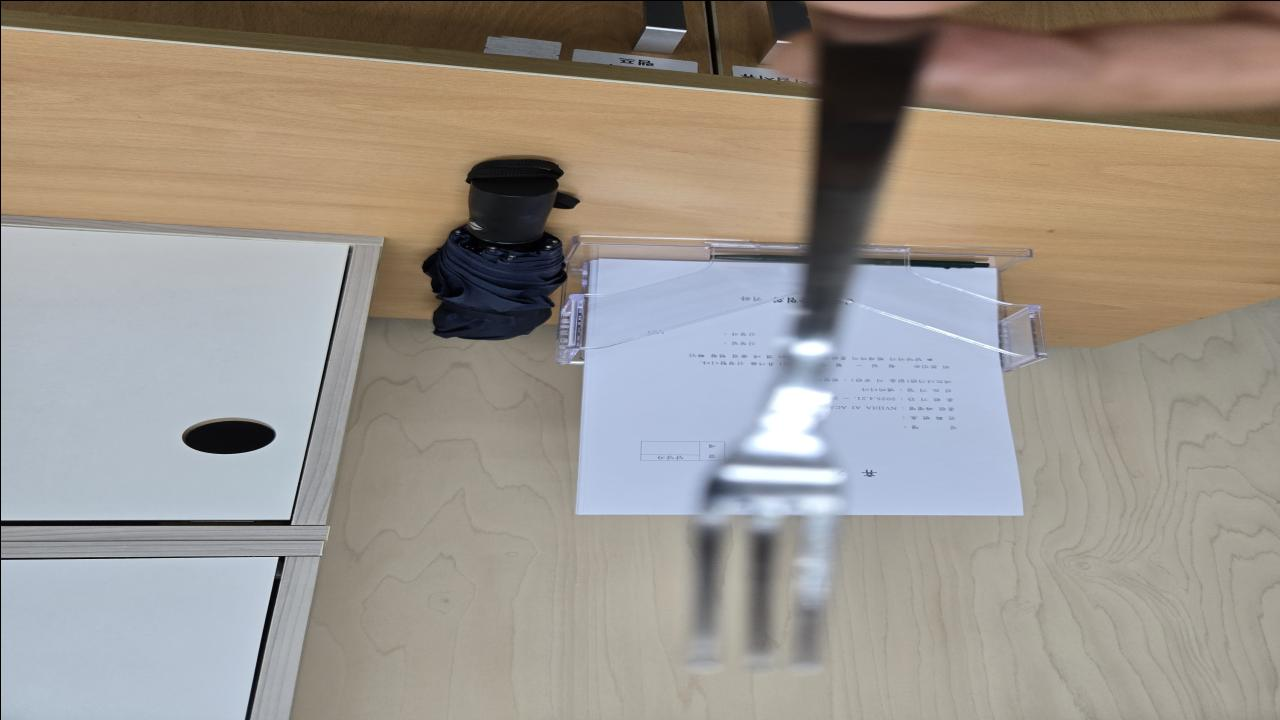fork: (681, 16, 939, 675)
